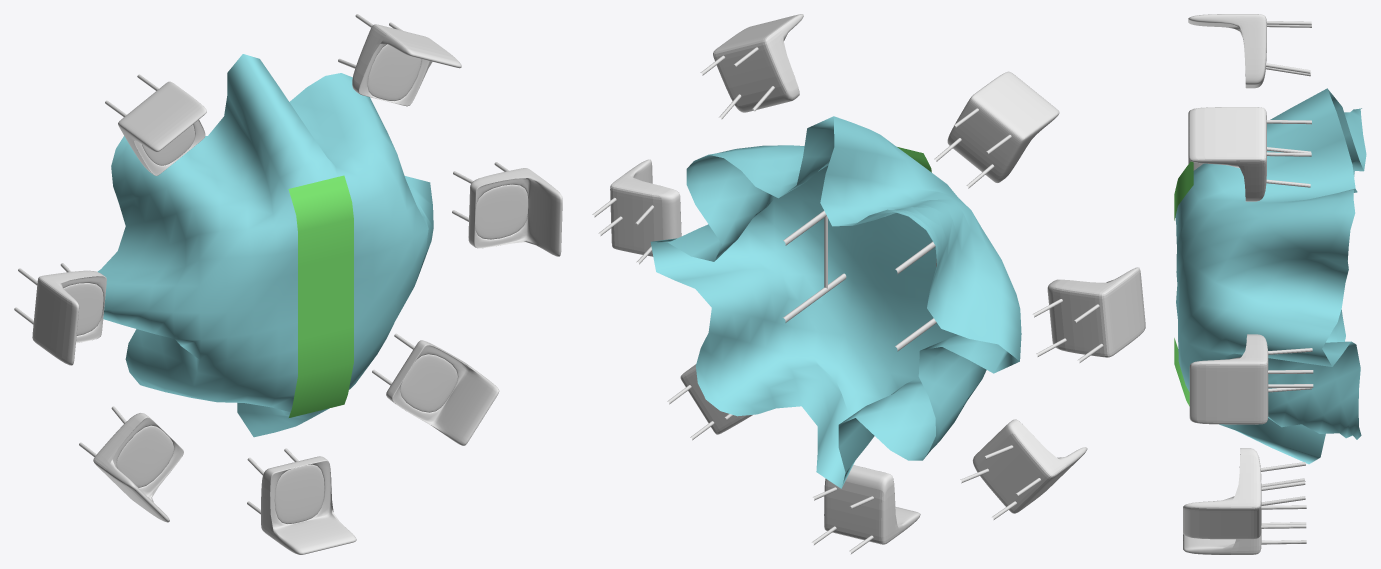
3 renders of one model, left to right at view 1: azimuth 30°, elevation 25°; view 2: azimuth 150°, elevation 25°; view 3: azimuth 270°, elevation 25°, orthographic.
Parts seen in each view (by area): view 1: TableCloth, TableRunner, Cube.005, Cube.004, Cube, Cube.003, Cube.001, Cube.002, Cube.006; view 2: TableCloth, Cube.006, Cube.003, Cube.001, Cube.002, Cube, Cube.004, table, Cube.005; view 3: TableCloth, Cube.004, Cube.001, Cube.005, Cube.006, Cube, TableRunner.
Part boxes in pixels (x1,y1,x2,y2): TableCloth: (97, 54, 433, 437); TableRunner: (288, 175, 353, 417); Cube.005: (386, 340, 499, 445); Cube.004: (468, 168, 562, 256); Cube: (261, 456, 356, 554); Cube.003: (32, 270, 106, 365); Cube.001: (352, 24, 461, 106); Cube.002: (93, 413, 183, 522); Cube.006: (118, 81, 206, 175); TableCloth: (650, 116, 1021, 488); Cube.006: (947, 71, 1059, 182); Cube.003: (1047, 267, 1145, 357); Cube.001: (713, 14, 803, 112); Cube.002: (972, 419, 1087, 513); Cube: (824, 465, 920, 544); Cube.004: (610, 159, 681, 256); table: (782, 210, 936, 351); Cube.005: (680, 364, 752, 434); TableCloth: (1175, 88, 1366, 464); Cube.004: (1189, 334, 1268, 424); Cube.001: (1188, 107, 1266, 201); Cube.005: (1183, 448, 1261, 539); Cube.006: (1188, 14, 1266, 88); Cube: (1183, 529, 1261, 554); TableRunner: (1174, 161, 1193, 406).
Bounding box in the file's own units: 9.13 × 8.38 × 3.06.
